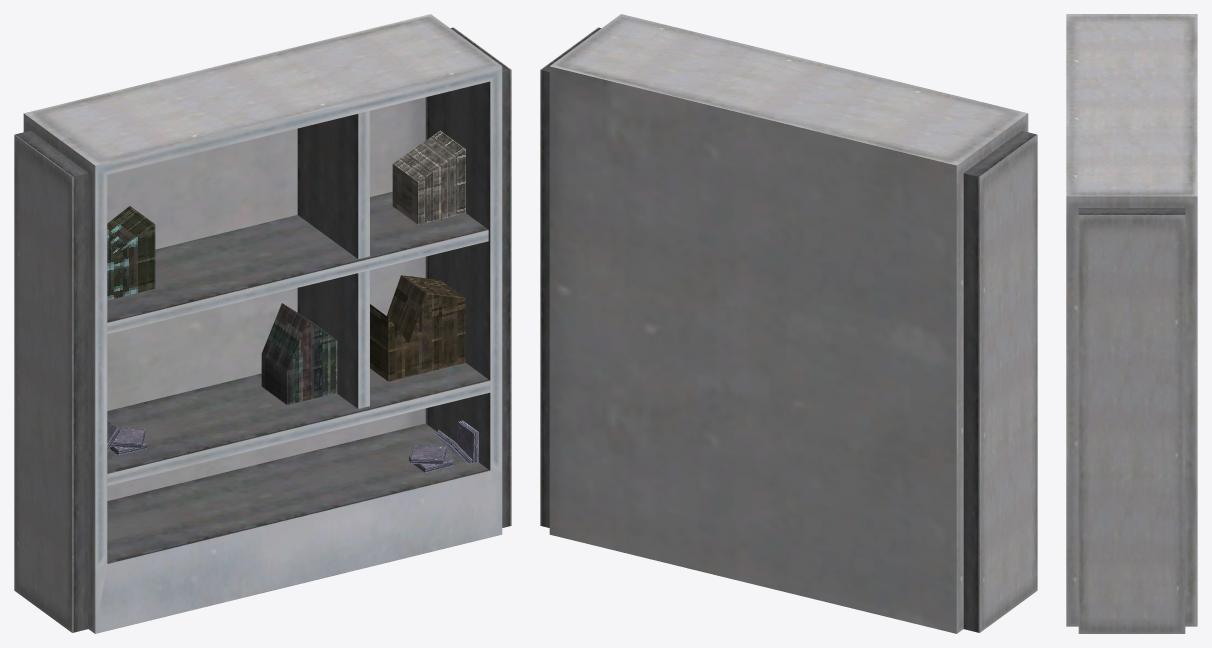
Rendered from frn_all_plan_bookcase_s01_l1.fbx.
The picture shows the model from 3 angles, left to right: view 1: azimuth 30°, elevation 25°; view 2: azimuth 150°, elevation 25°; view 3: azimuth 270°, elevation 25°; orthographic projection. The views are drawn at different scales.
Parts seen in each view (by area): view 1: mesh_node; view 2: mesh_node; view 3: mesh_node.
Part boxes in pixels (x1=…): mesh_node: x1=14, y1=14, x2=511, y2=633; mesh_node: x1=540, y1=14, x2=1037, y2=633; mesh_node: x1=1066, y1=14, x2=1197, y2=633.
Bounding box in the file's own units: 1.77 × 1.8 × 0.4979.
